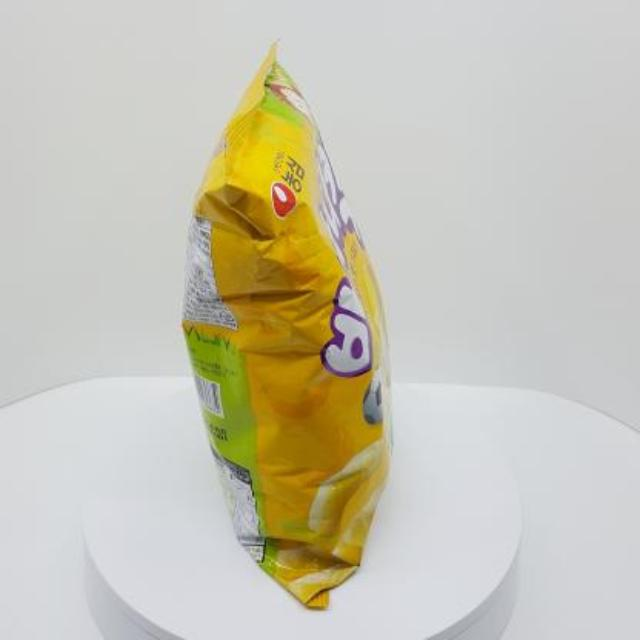snack_bag: (174, 31, 410, 620)
